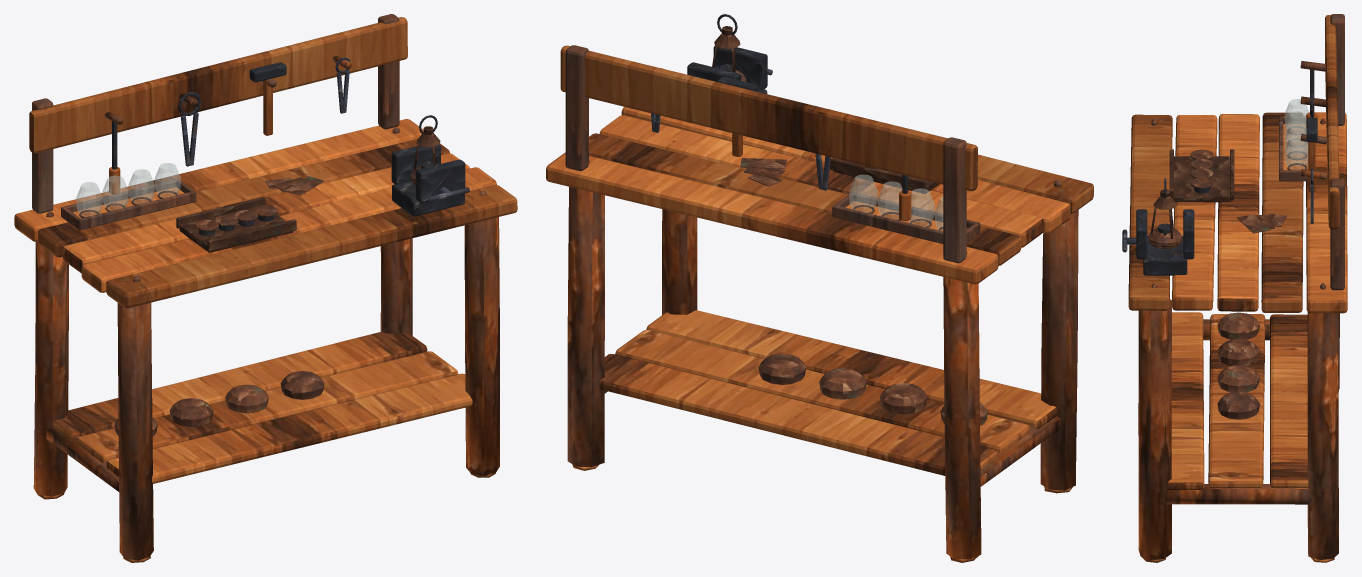
File: lw_lamp_workbench.glb
The picture shows the model from 3 angles, left to right: view 1: azimuth 30°, elevation 25°; view 2: azimuth 150°, elevation 25°; view 3: azimuth 270°, elevation 25°; orthographic projection. The views are drawn at different scales.
Parts seen in each view (by area): view 1: model; view 2: model; view 3: model.
Part boxes in pixels (<box>): model: <box>14,14,517,562</box>; model: <box>546,14,1093,562</box>; model: <box>1122,14,1347,562</box>.
Size of the model in its own units: 1.21 by 1.13 by 0.6147.
21 materials, 16 textured.
